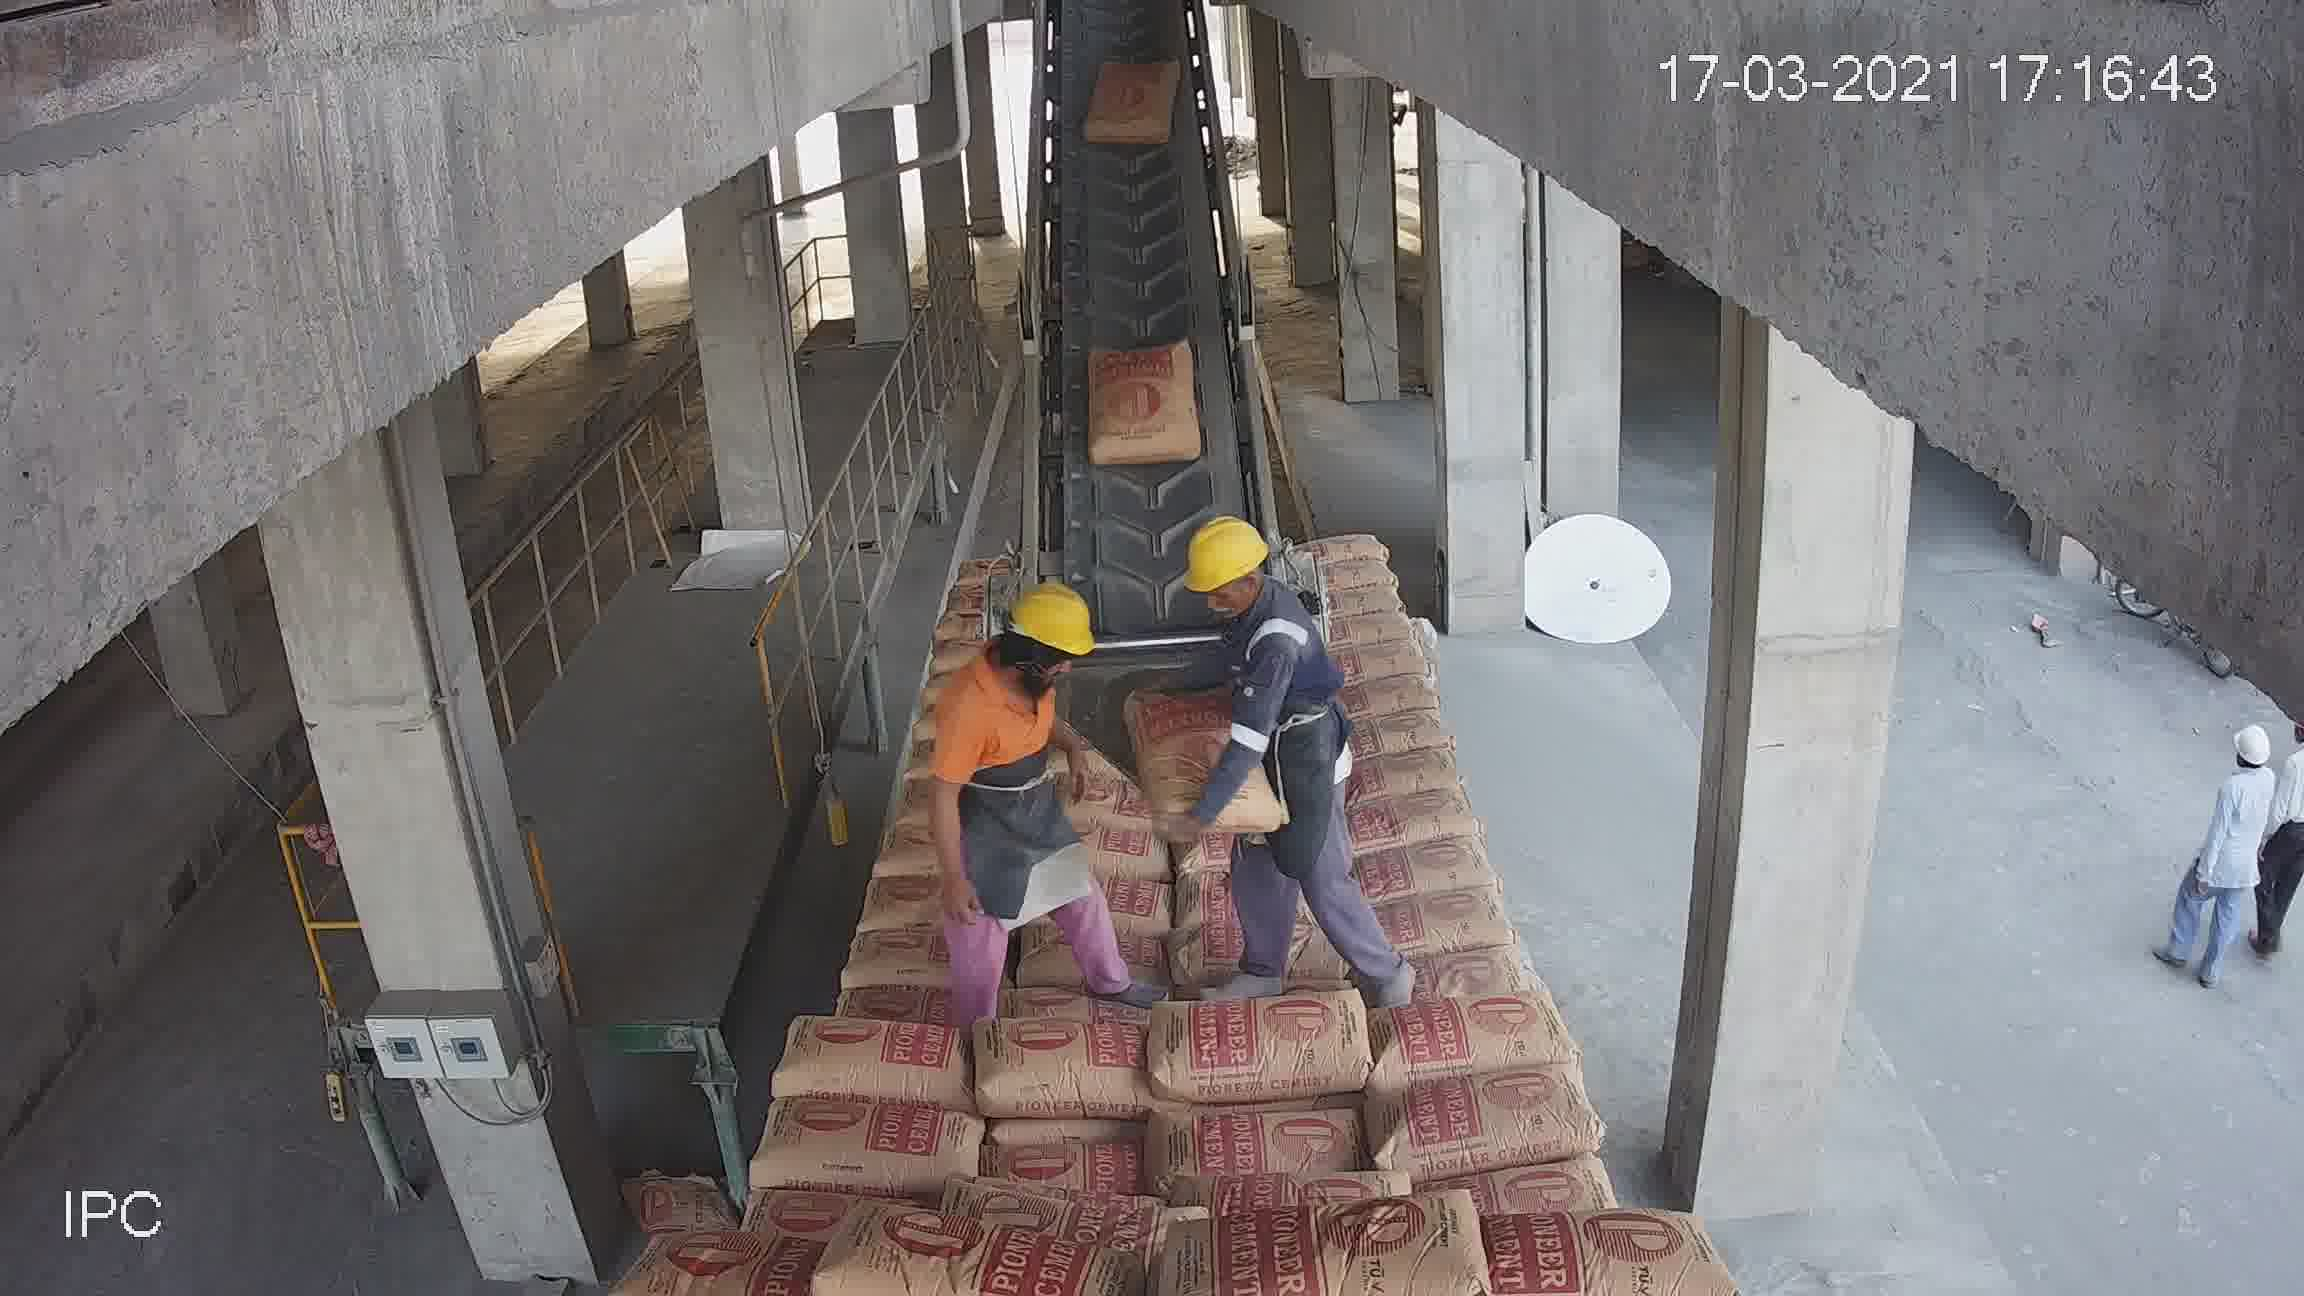bag: (1086, 339, 1204, 467), (1082, 55, 1184, 146)
bag_h: (1188, 1184, 1513, 1296), (1155, 981, 1370, 1108), (1443, 1203, 1711, 1296), (798, 1218, 1122, 1294), (1377, 1079, 1589, 1193), (748, 1100, 995, 1196), (968, 1010, 1154, 1131), (1356, 999, 1584, 1095), (1155, 1108, 1381, 1203), (771, 1022, 976, 1105), (1374, 883, 1532, 973), (636, 1228, 845, 1294), (1388, 962, 1548, 1032), (1377, 836, 1518, 907), (991, 1139, 1157, 1196), (1372, 791, 1495, 855), (1362, 739, 1465, 809), (1351, 665, 1446, 728), (1078, 820, 1176, 877), (1358, 711, 1454, 763), (1305, 555, 1412, 597), (1294, 533, 1402, 571)
bag_v: (1131, 673, 1279, 850)
belt: (1014, 21, 1280, 711)
